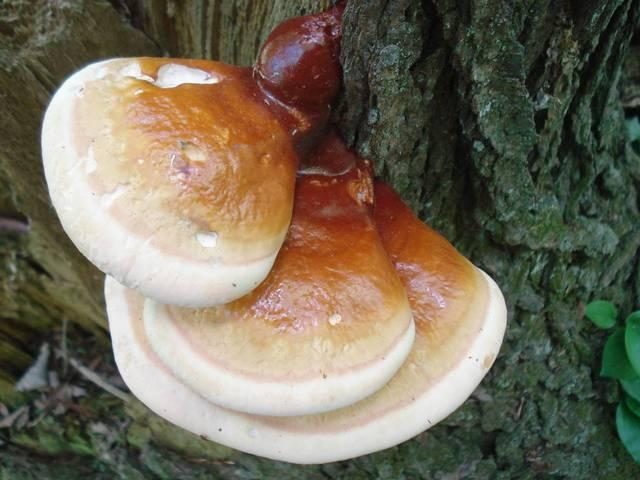poisonous_mushroom: (39, 3, 508, 465)
